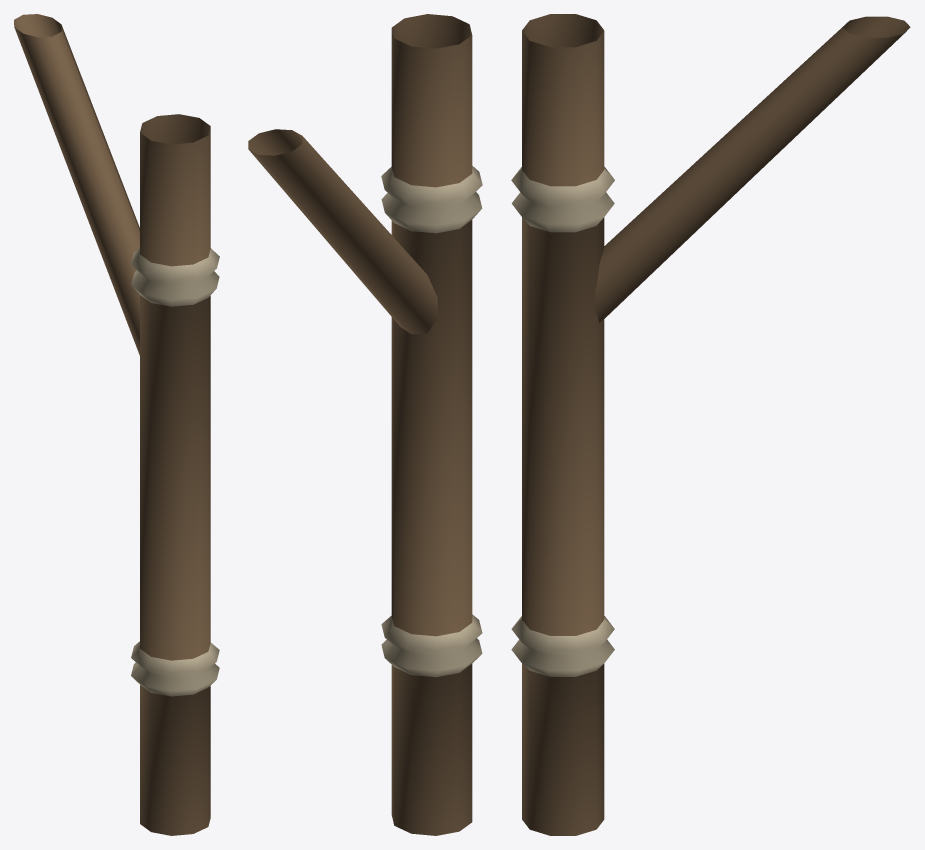
The model's file is rpgpp_ag_support_beam_int_01b_4m.fbx.
The picture shows the model from 3 angles, left to right: view 1: azimuth 30°, elevation 25°; view 2: azimuth 150°, elevation 25°; view 3: azimuth 270°, elevation 25°; orthographic projection. The views are drawn at different scales.
Visible parts, largest first — view 1: rpgpp_ag_support_beam_int_01b_4m; view 2: rpgpp_ag_support_beam_int_01b_4m; view 3: rpgpp_ag_support_beam_int_01b_4m.
Boxes of the visible parts, left/top/right/bottom form: rpgpp_ag_support_beam_int_01b_4m: left=14, top=14, right=219, bottom=835; rpgpp_ag_support_beam_int_01b_4m: left=248, top=14, right=482, bottom=835; rpgpp_ag_support_beam_int_01b_4m: left=511, top=14, right=910, bottom=835.
Size of the model in its own units: 0.4431 by 3.92 by 1.79.
